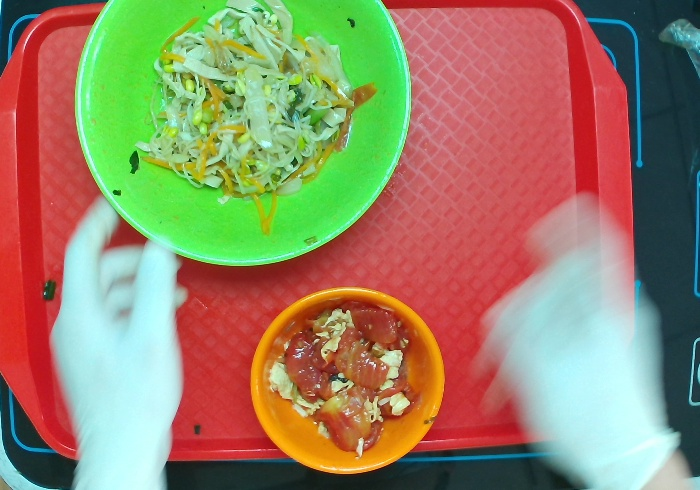YKMZ-Ju_Se_Yuan_Wan: (248, 285, 446, 475)
YKMZ-Lv_Se_Tang_Wan: (73, 1, 413, 268)
